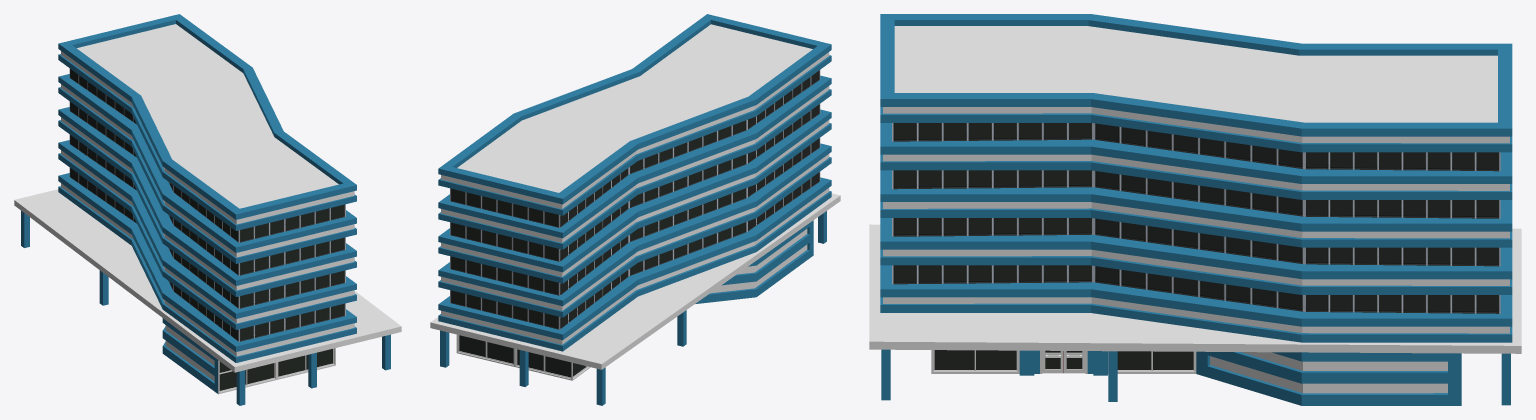
3 views of the same model, side by side, from view 1: azimuth 30°, elevation 25°; view 2: azimuth 150°, elevation 25°; view 3: azimuth 270°, elevation 25° (orthographic). The views are drawn at different scales.
Visible parts, largest first — view 1: MB-01; view 2: MB-01; view 3: MB-01.
Part boxes in pixels (<box>): MB-01: <box>14,14,401,405</box>; MB-01: <box>430,14,840,405</box>; MB-01: <box>869,14,1521,405</box>.
Size of what is drawn, in the model's own units: 16.43 by 17.5 by 37.29.
